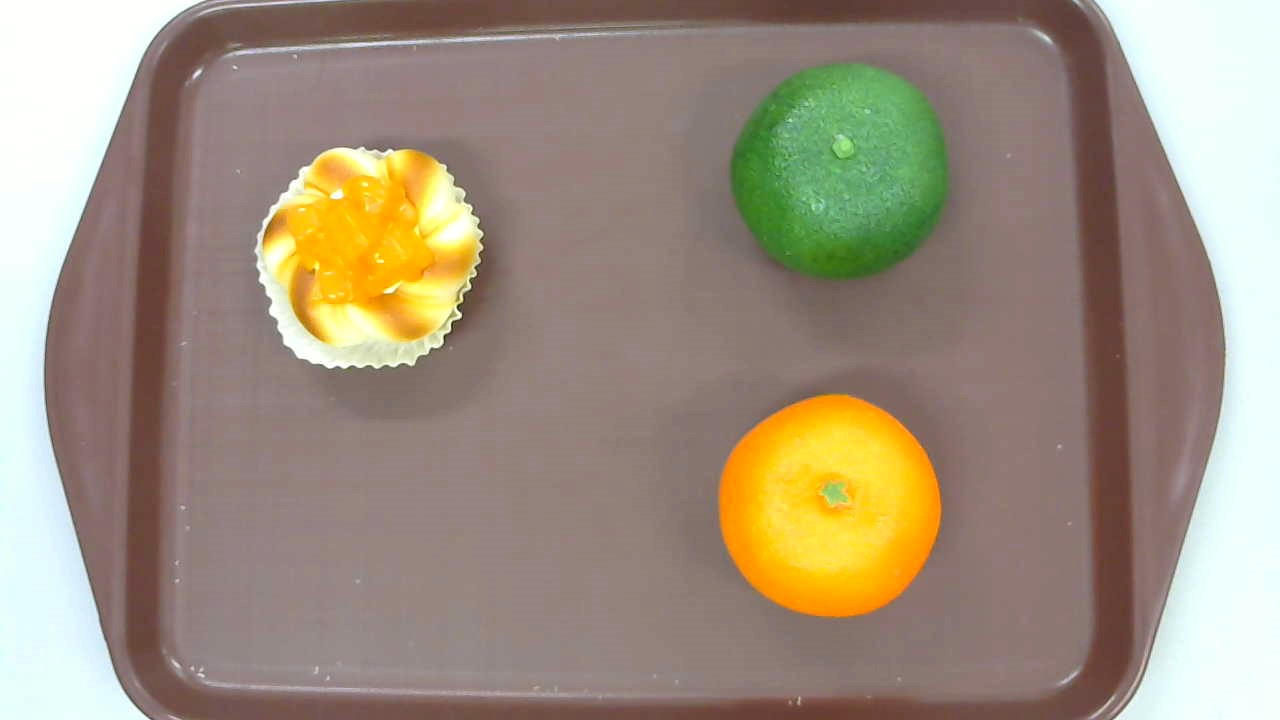green orange: (730, 62, 948, 279)
mango tart: (254, 147, 485, 372)
orange: (718, 394, 941, 616)
